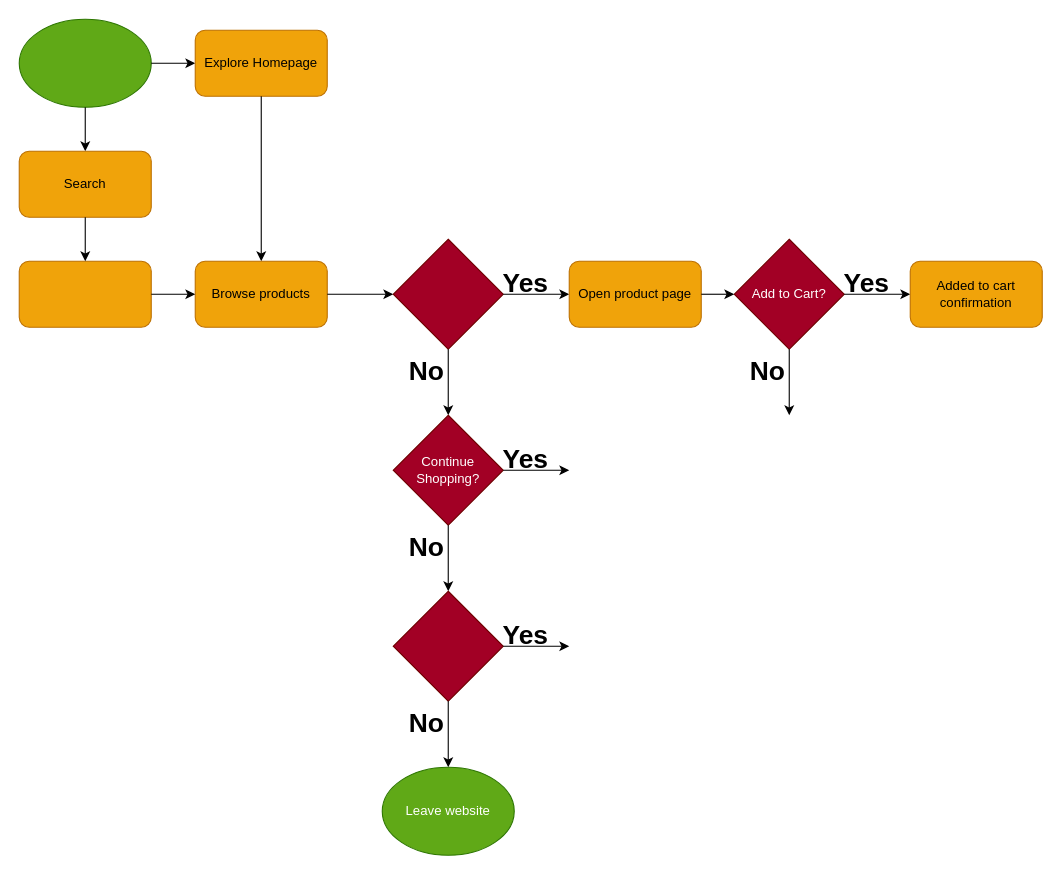
This 1062x875 diagram has some shape labels left out. Here are the shapes that lost their labels. From the top down, the centre of each, then its label:
At point (84, 62): "User enters website".
At point (84, 293): "Input".
At point (447, 293): "View specific product?".
At point (447, 645): "Checkout?".
